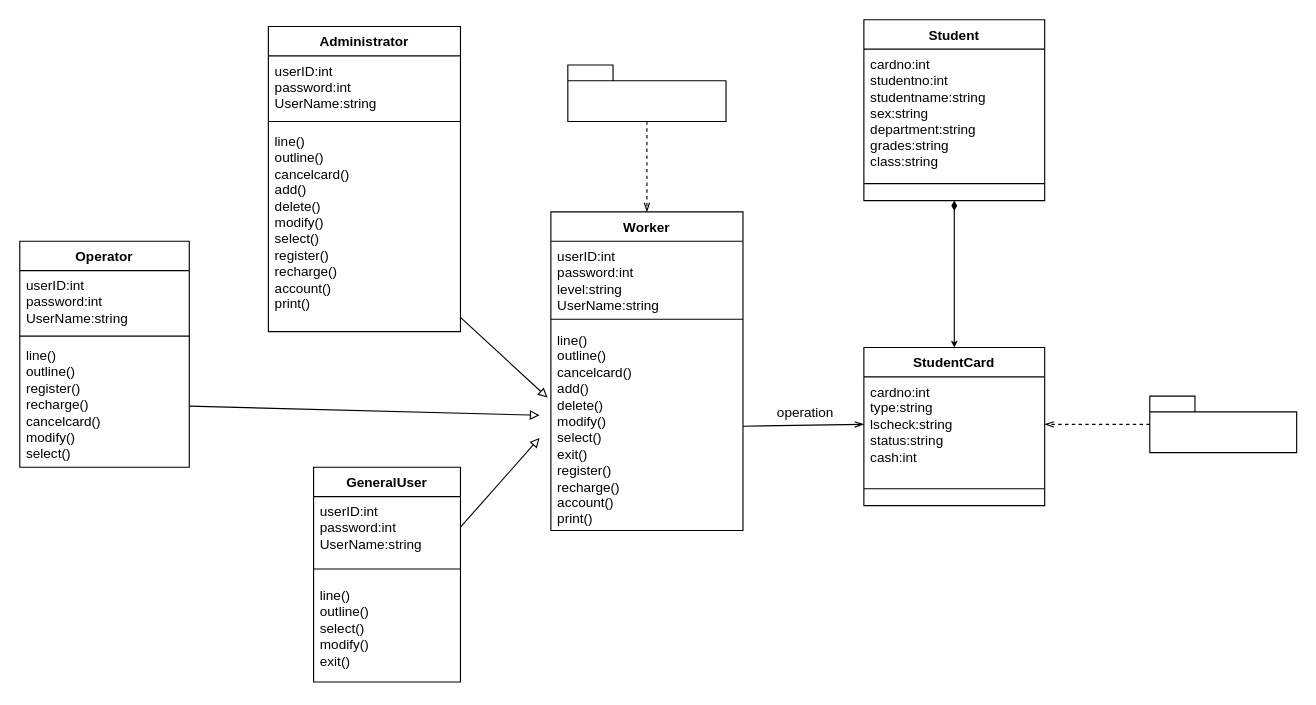
The diagram is 1316 pixels wide and 705 high, and some of its shapes have lost their labels. The shapes that lost their labels are listed below. From the top down, each one's centre as x and y in pixels, then its label:
At (646,92): "WorkerRecords".
At (1223,424): "Studentrecords".
